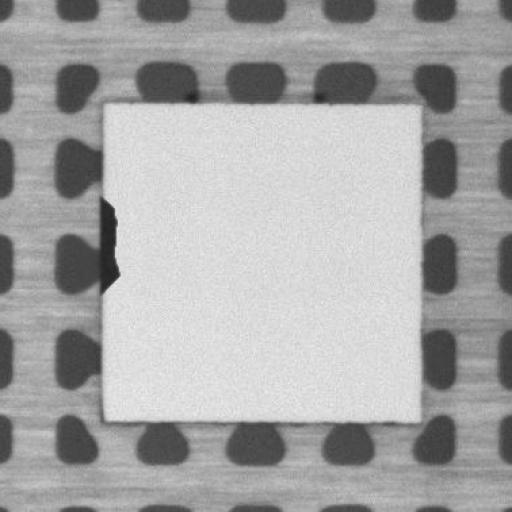DIE_BROKEN: (94, 194, 122, 295)
